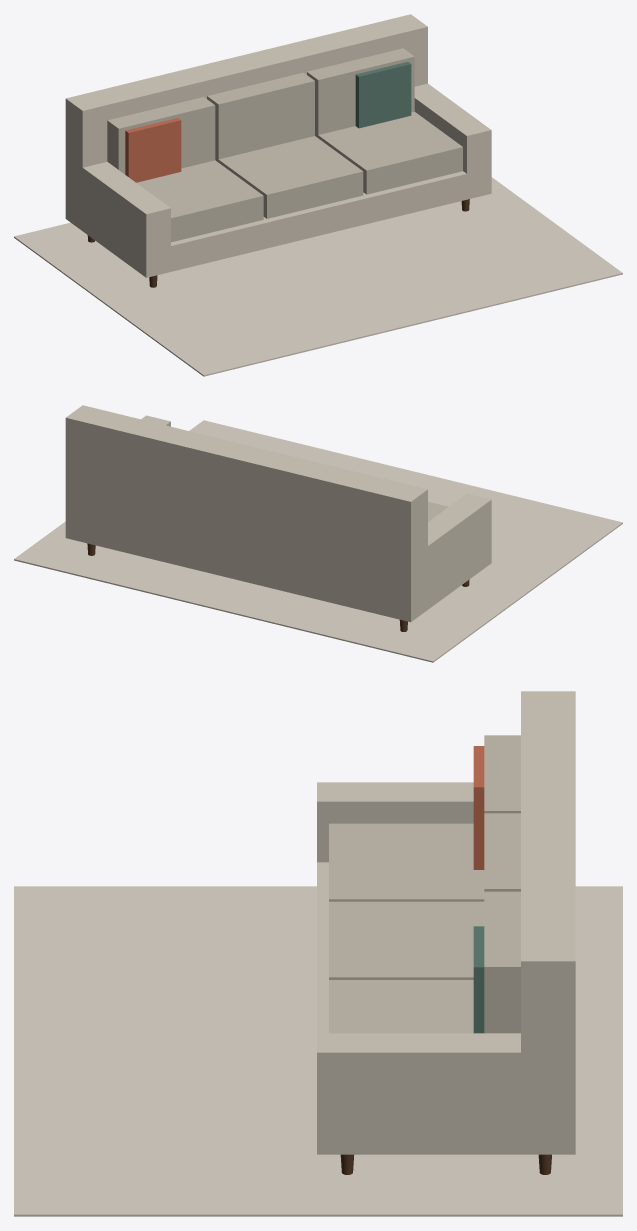
The model's file is sofa_3seater.glb.
3 views of the same model, one above another, from view 1: azimuth 30°, elevation 25°; view 2: azimuth 150°, elevation 25°; view 3: azimuth 270°, elevation 25° (orthographic). The views are drawn at different scales.
Bounding box in the file's own units: 2.55 × 0.82 × 2.
